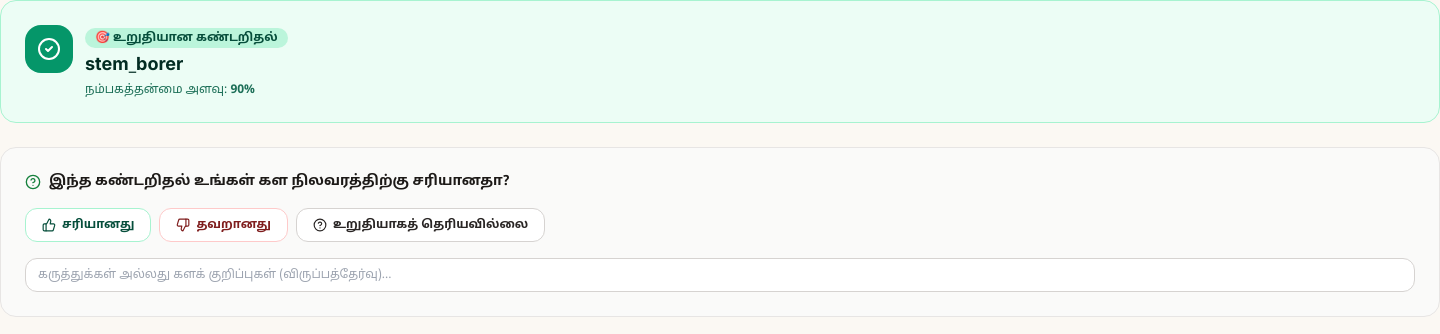
Phase 4: Pest Detection › Farmer Accuracy Feedback Flow › submits accuracy feedback with optional note
This screenshot has width=1440, height=334.
Check: the text "இந்த கண்டறிதல் உங்கள் கள நிலவரத்திற்கு சரியானதா?" is shown, box [49,172,509,192]
Click the button "சரியானது": (88, 225) [25,208,151,242]
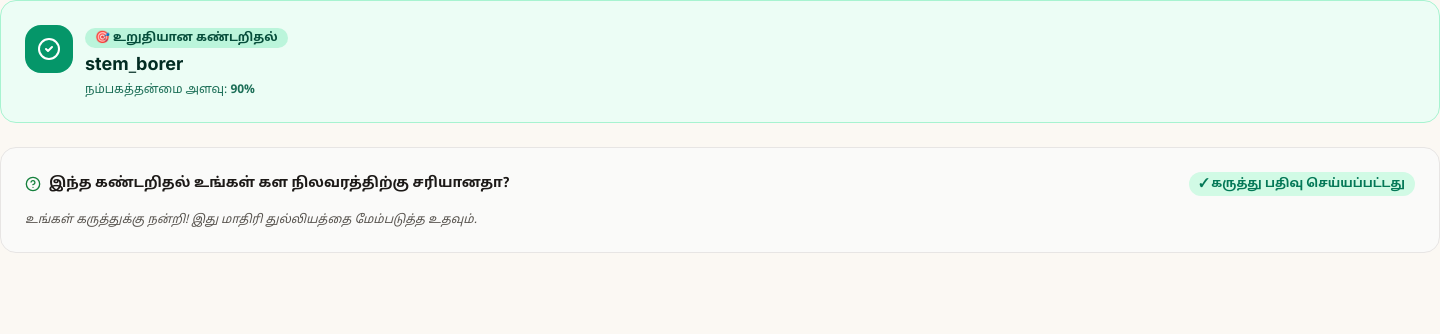
Check: the text "உங்கள் கருத்துக்கு நன்றி!" is shown, box [25,213,477,227]
